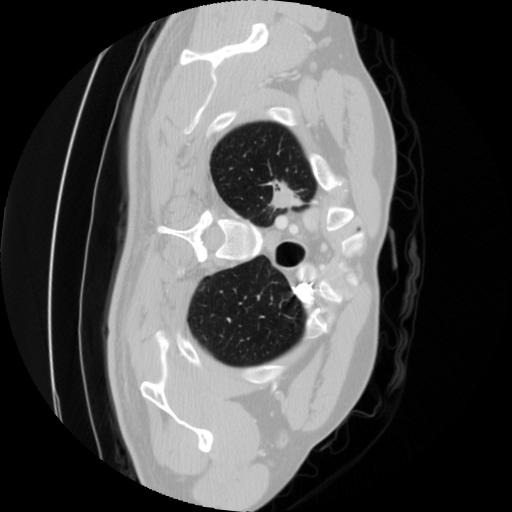nodule: (266, 180, 304, 218)
